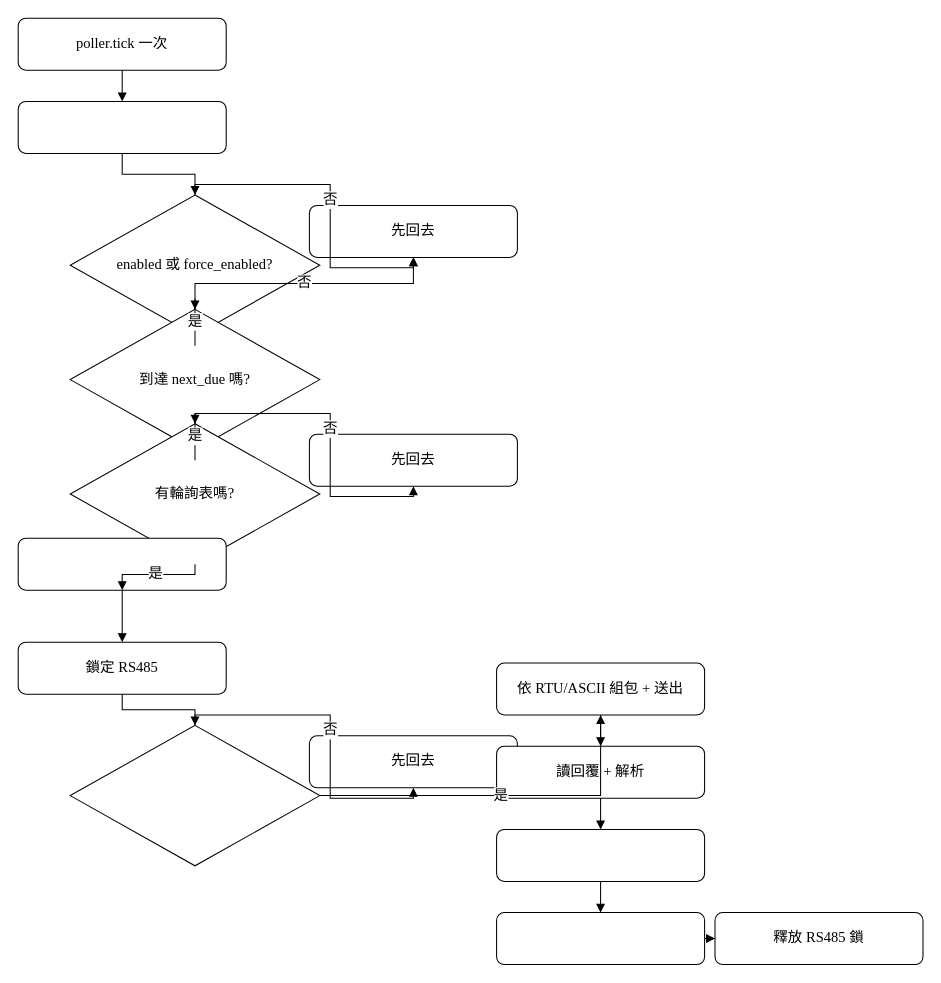
Some shapes in this 941 by 983 pixel diagram are drawn without their labels. Here are the shapes that lost their labels. From the top down, the centre of each, then its label:
(121,126): 讀輪詢設定 + Gateway timeout
(121,563): 取下一筆並解析 ch/station/cmd/reg/data
(194,795): 鎖成功?
(600,854): 更新 Return + 回填 本地 registers
(600,938): 計算 next_due (完成時間 + interval)
